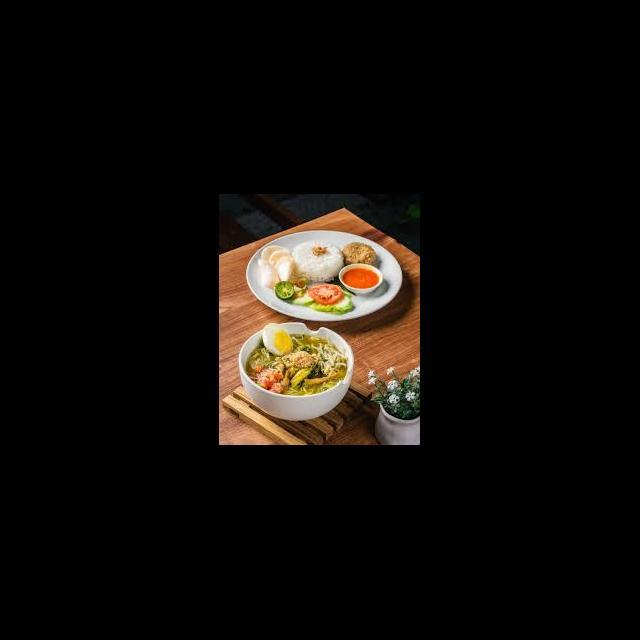Soto: (246, 325, 352, 407)
